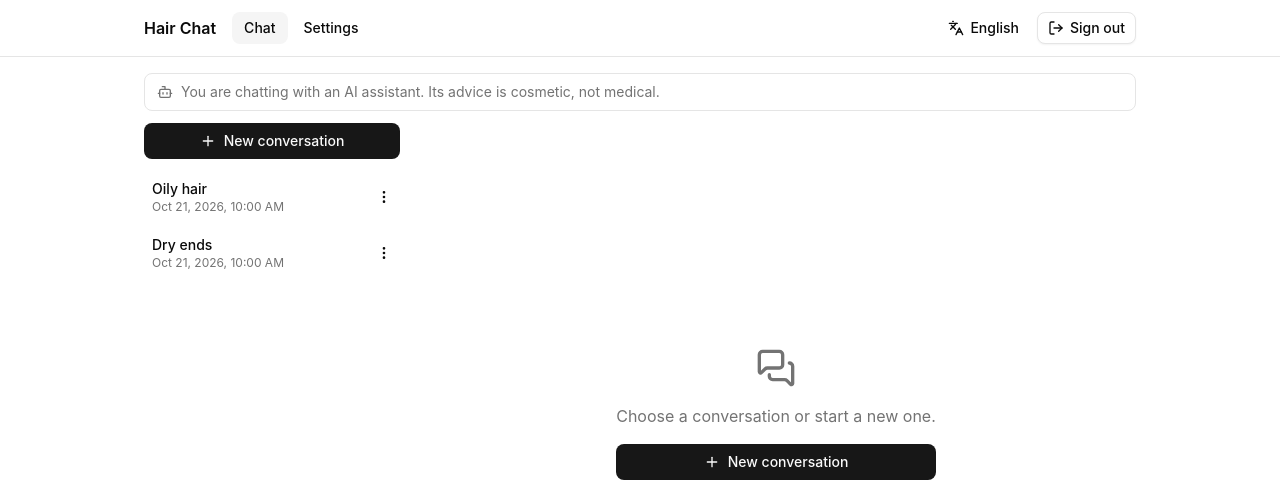
Scenario: rename a conversation › drops a conversation that is gone (404)
Expected: the link "Oily hair Oct 21, 2026, 10:00 AM" is shown, top-left (152, 180), bottom-right (284, 214)
Click the button named "Actions for “Oily hair”" at coordinates (384, 197), box top-left (368, 181), bottom-right (400, 213)
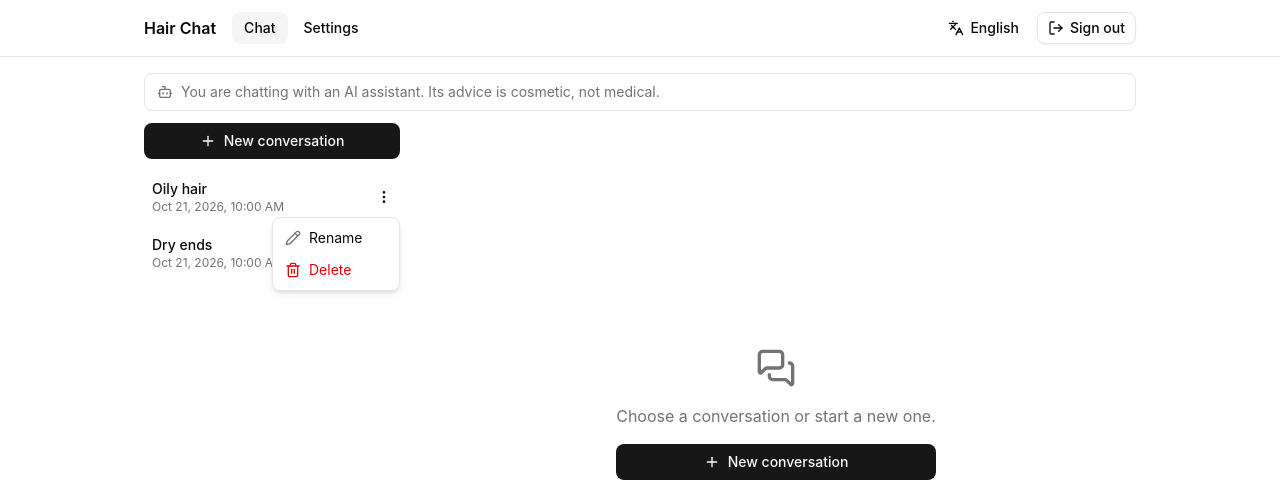
Click the menu item "Rename" at coordinates (324, 238), box top-left (285, 229), bottom-right (362, 246)
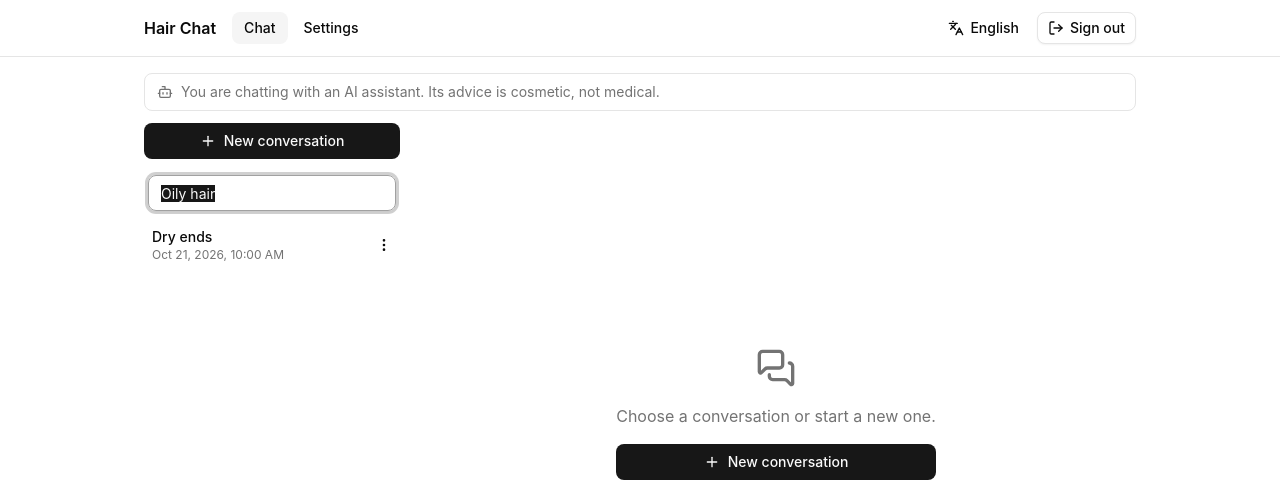
Replace the text in the field named "Conversation name" with "Scalp care" at coordinates (272, 193), box top-left (148, 175), bottom-right (396, 211)
Then press Enter
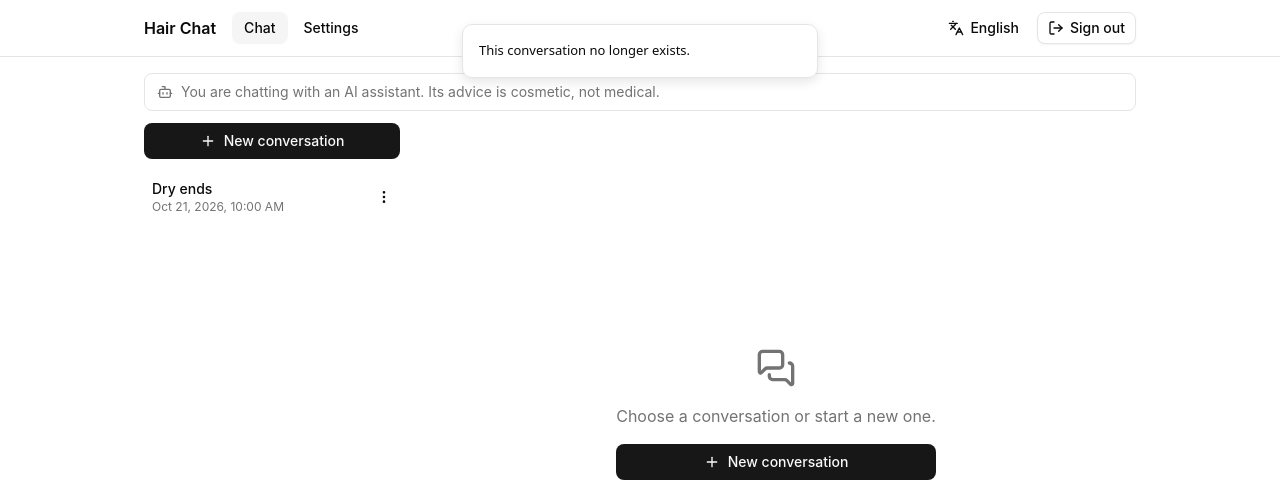
Expected: the link "Oily hair" is not shown
Expected: the text "This conversation no longer exists." is shown, top-left (479, 41), bottom-right (690, 60)
